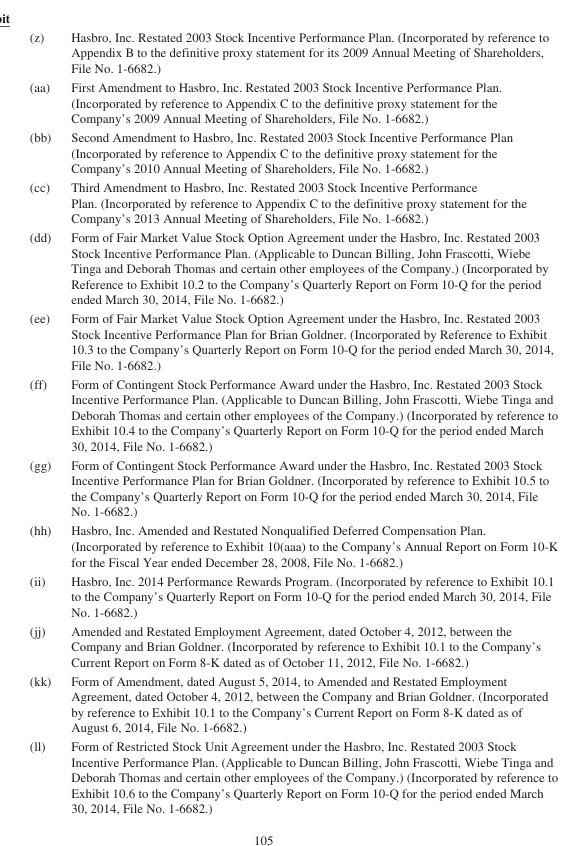table: (28, 29, 557, 815)
table column: (60, 29, 557, 815), (28, 29, 60, 815)
table row: (28, 373, 557, 455), (28, 227, 557, 308), (28, 736, 557, 815), (28, 670, 557, 736), (28, 308, 557, 373), (28, 455, 557, 520), (28, 77, 557, 127), (28, 127, 557, 177), (28, 177, 557, 227), (28, 520, 557, 570), (28, 570, 557, 620), (28, 620, 557, 670), (28, 29, 557, 77)
